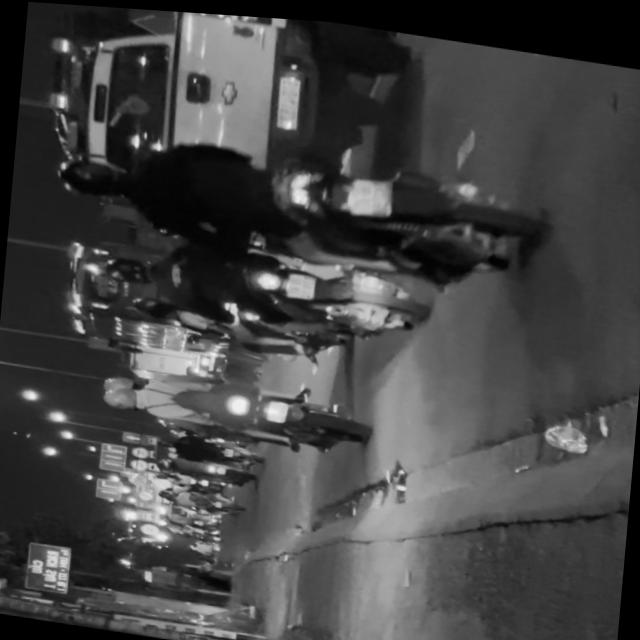helmet: (54, 150, 128, 200), (102, 252, 150, 284), (100, 382, 142, 411), (100, 371, 142, 395)
licenseplate: (47, 111, 544, 298), (87, 223, 430, 348), (93, 351, 379, 468)
nohelmet: (344, 169, 390, 213), (283, 267, 313, 295)
